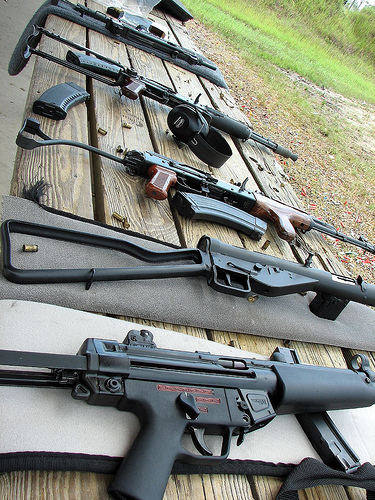rifle: (13, 339, 365, 494), (20, 141, 372, 248), (21, 25, 298, 160), (6, 241, 372, 326)
